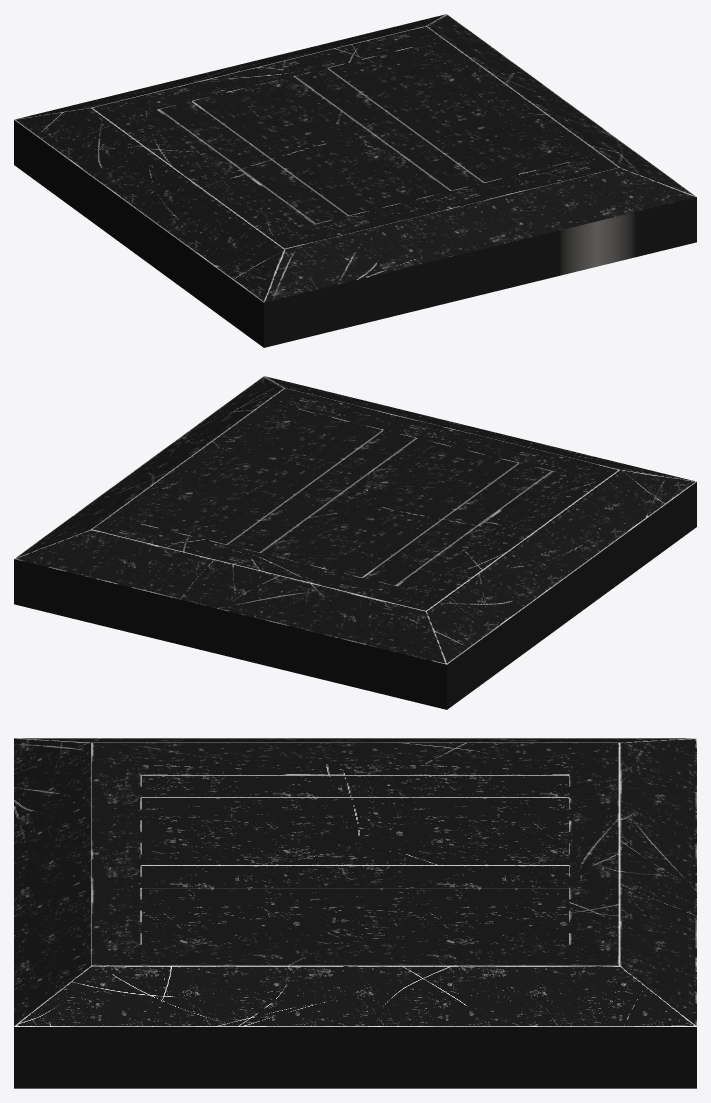
Rendered from metal_vent.glb.
3 renders of one model, top to bottom at view 1: azimuth 30°, elevation 25°; view 2: azimuth 150°, elevation 25°; view 3: azimuth 270°, elevation 25°, orthographic. The views are drawn at different scales.
Visible parts, largest first — view 1: grate_1_low; view 2: grate_1_low; view 3: grate_1_low.
Part boxes in pixels (left/top/right/bottom): grate_1_low: left=14, top=14, right=696, bottom=347; grate_1_low: left=14, top=376, right=696, bottom=709; grate_1_low: left=14, top=738, right=696, bottom=1088.
Bounding box in the file's own units: 2 × 0.2912 × 2.
1 material, 1 textured.
